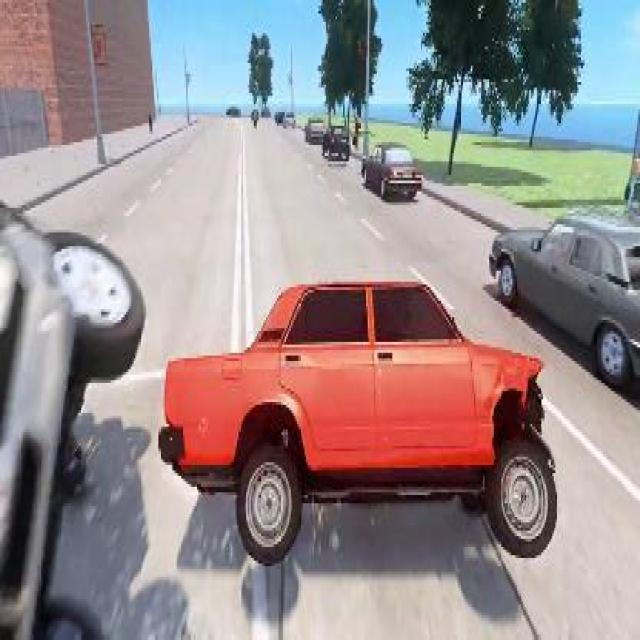accident: (158, 279, 557, 569), (0, 183, 145, 640)
